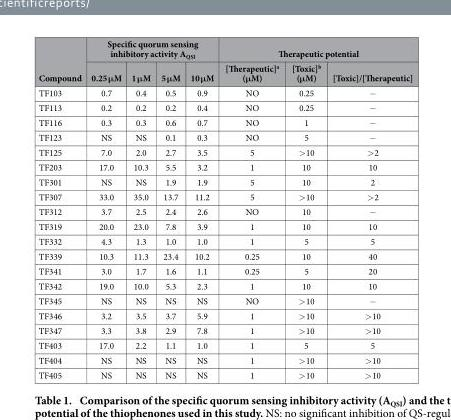table: (37, 37, 412, 380)
table column: (326, 37, 412, 380), (218, 37, 284, 380), (37, 37, 85, 380), (284, 37, 326, 380), (85, 37, 125, 380), (184, 37, 218, 380), (125, 37, 155, 380), (155, 37, 184, 380)
table column header: (37, 37, 412, 84)
table row: (37, 60, 412, 84), (37, 37, 412, 60), (37, 84, 412, 99), (37, 99, 412, 114), (37, 114, 412, 129), (37, 129, 412, 144), (37, 144, 412, 159), (37, 159, 412, 174), (37, 174, 412, 189), (37, 203, 412, 218), (37, 218, 412, 233), (37, 233, 412, 248), (37, 248, 412, 263), (37, 263, 412, 278), (37, 278, 412, 293), (37, 307, 412, 322), (37, 322, 412, 337), (37, 337, 412, 352), (37, 352, 412, 367), (37, 189, 412, 203), (37, 293, 412, 307), (37, 367, 412, 380)
table spanning cell: (218, 37, 412, 60), (85, 37, 218, 60), (37, 37, 85, 84)
